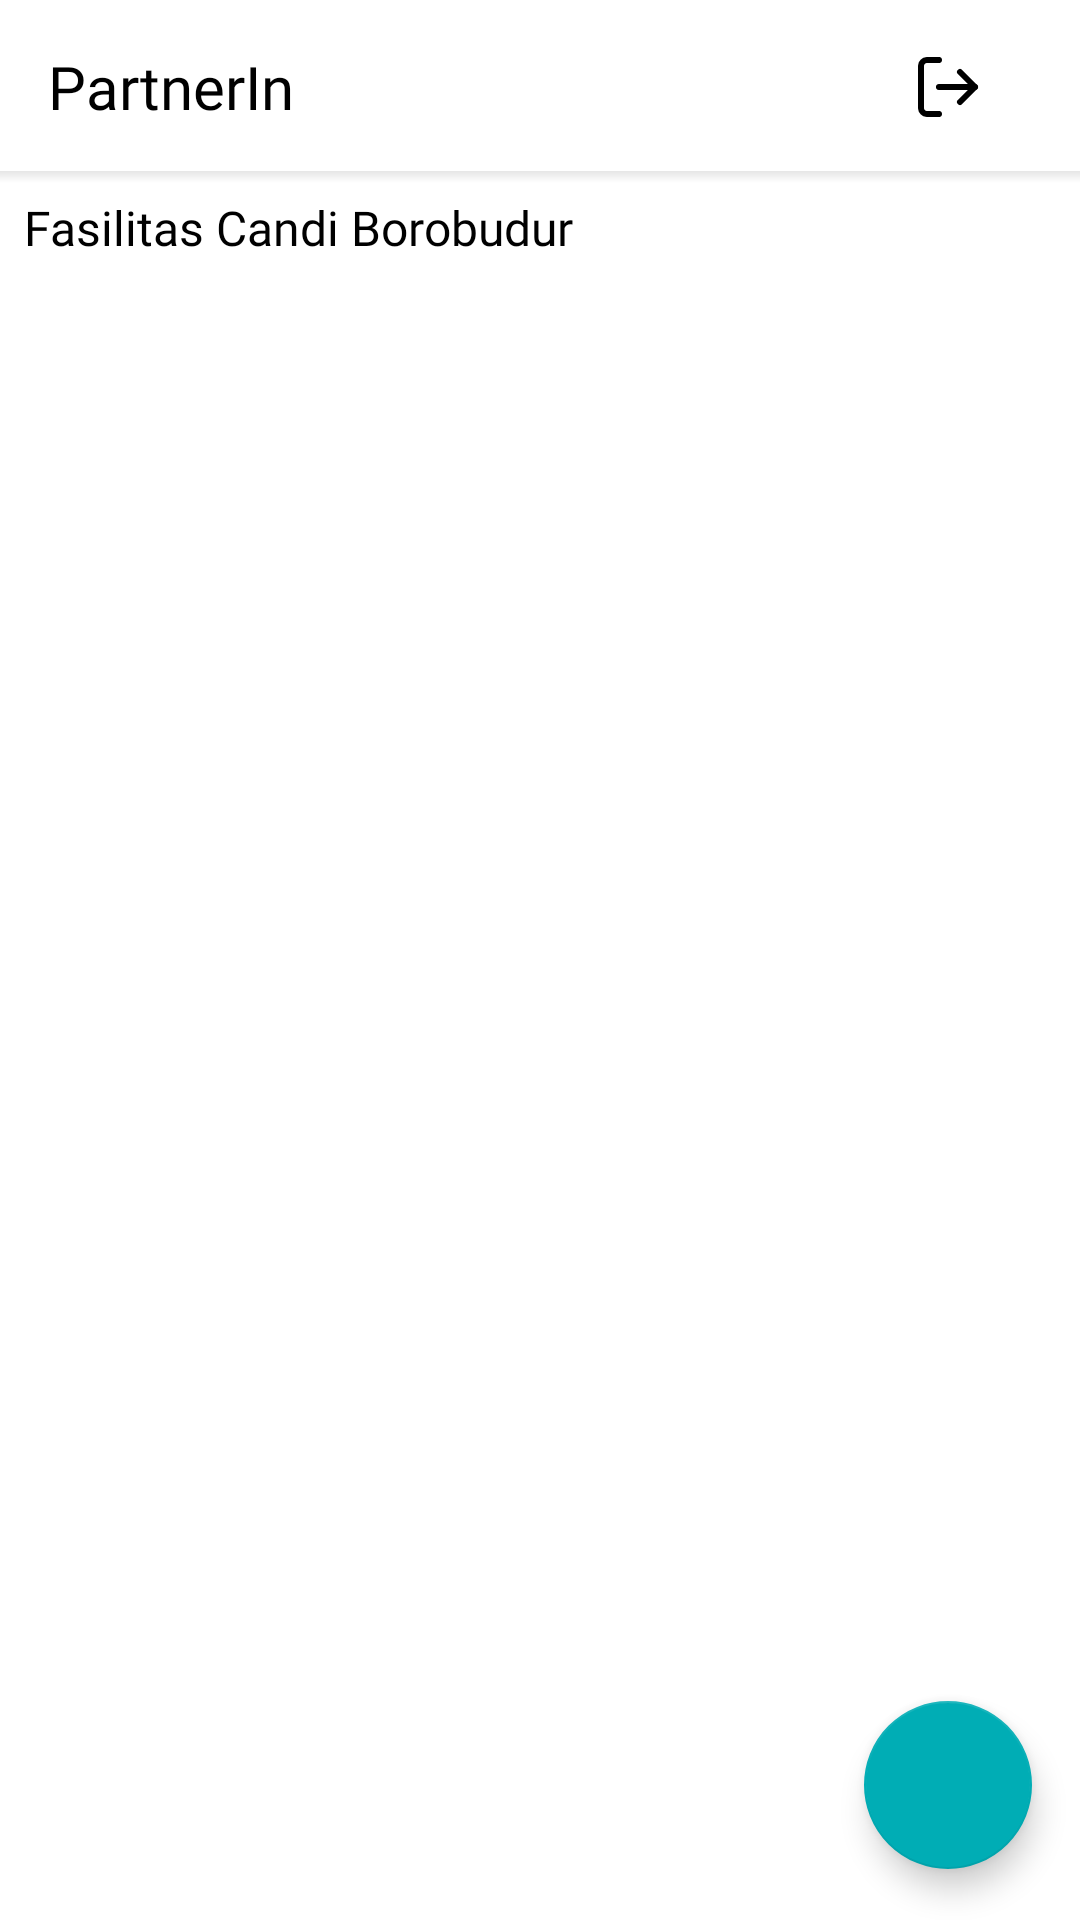

Icon bounding boxes for this 1080 × 1920 phone screenshot, format box(x1, y1, x2, y2):
log out: box(918, 57, 978, 117)
